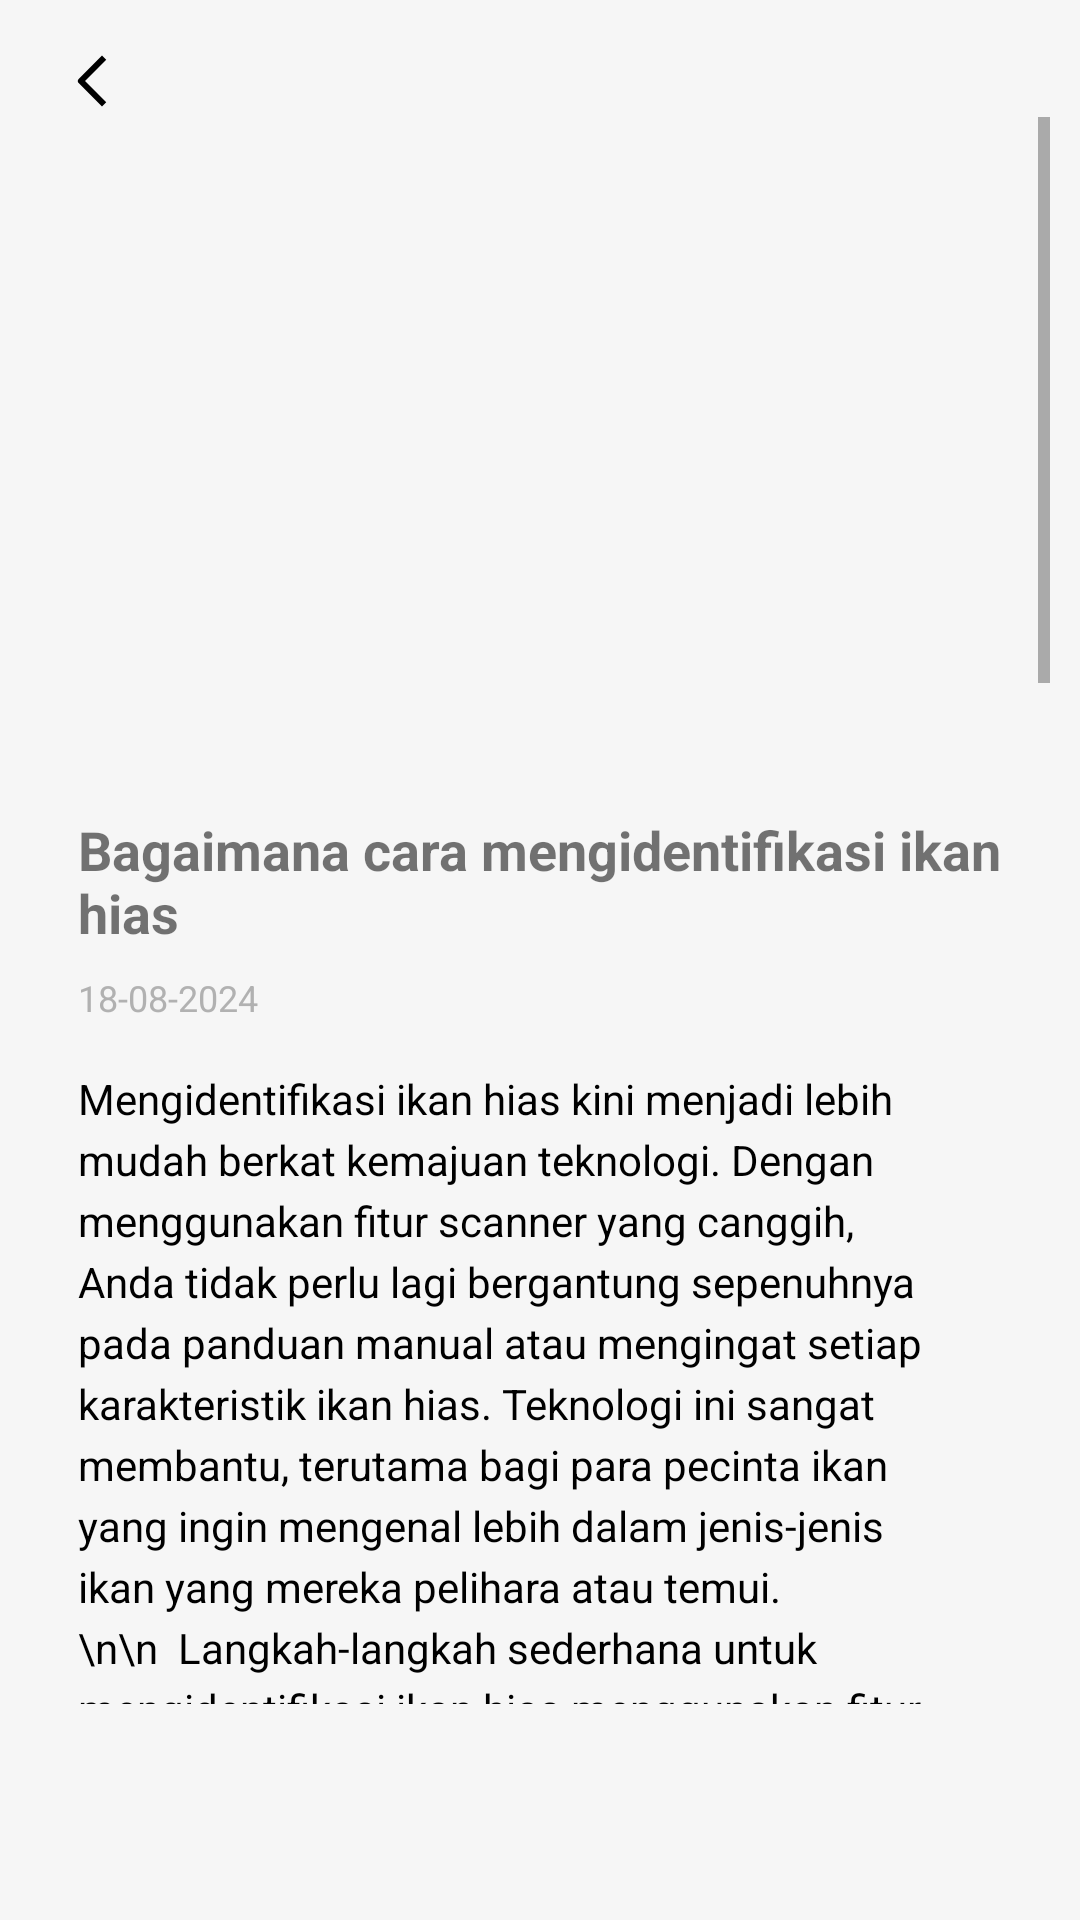

Icons on this 1080px×1920px Android screen, each with the point to tap as (x=x, y=y):
Kembali: (x=91, y=81)
